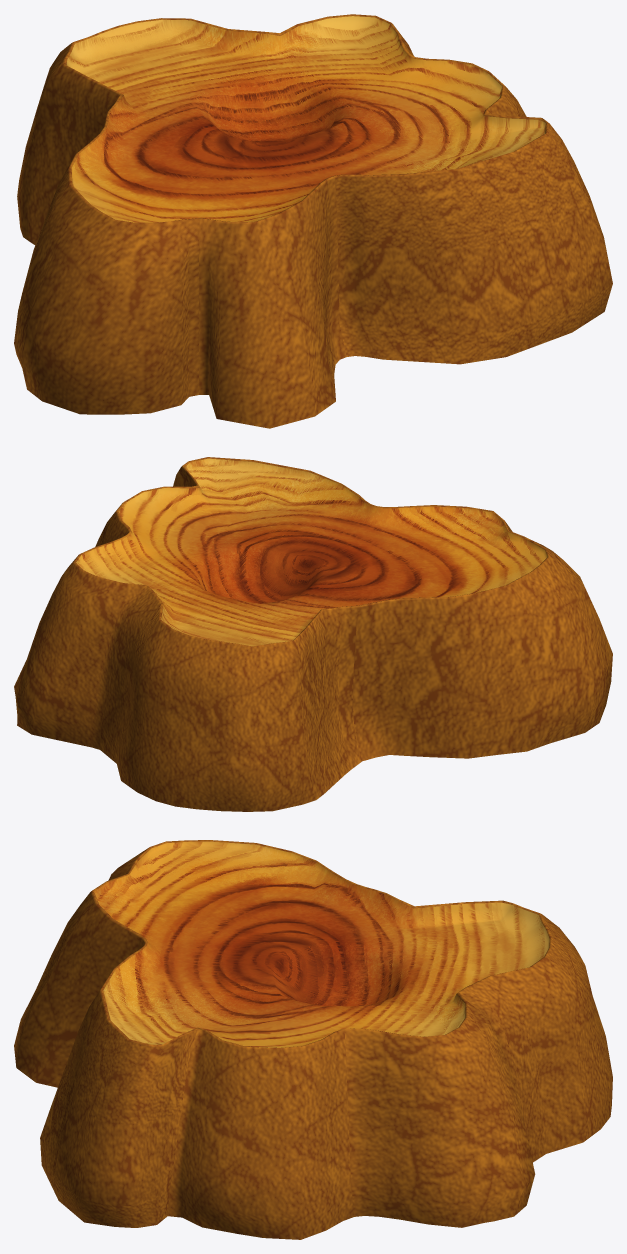
Rendered from stump.fbx.
3 renders of one model, top to bottom at view 1: azimuth 30°, elevation 25°; view 2: azimuth 150°, elevation 25°; view 3: azimuth 270°, elevation 25°, orthographic. The views are drawn at different scales.
Parts seen in each view (by area): view 1: stump2; view 2: stump2; view 3: stump2.
Boxes of the visible parts, x1,y1,x2,y2 form: stump2: (14,14,612,428); stump2: (14,457,612,811); stump2: (14,840,612,1239).
Size of the model in its own units: 16.56 by 4.85 by 15.75.
Materials: 1 (1 with a texture image).
